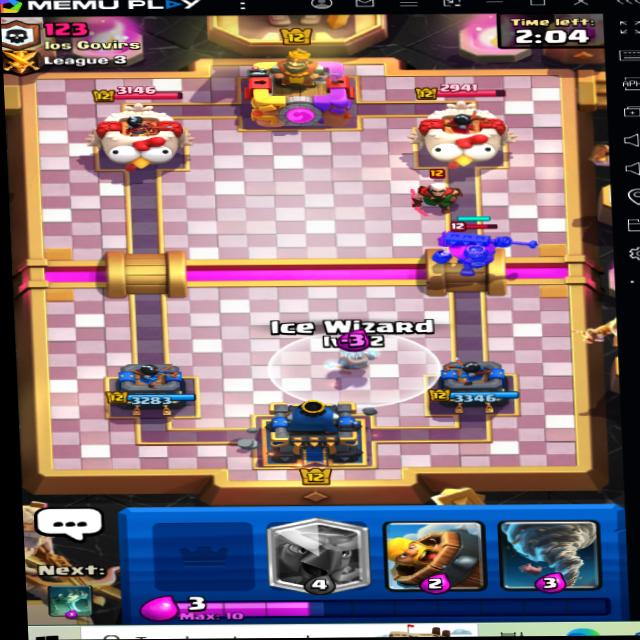magic-archer: (381, 168, 487, 219)
skeleton-king: (433, 218, 530, 282)
